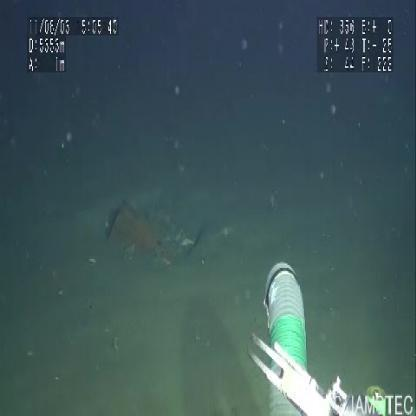Rác: (110, 200, 203, 269)
